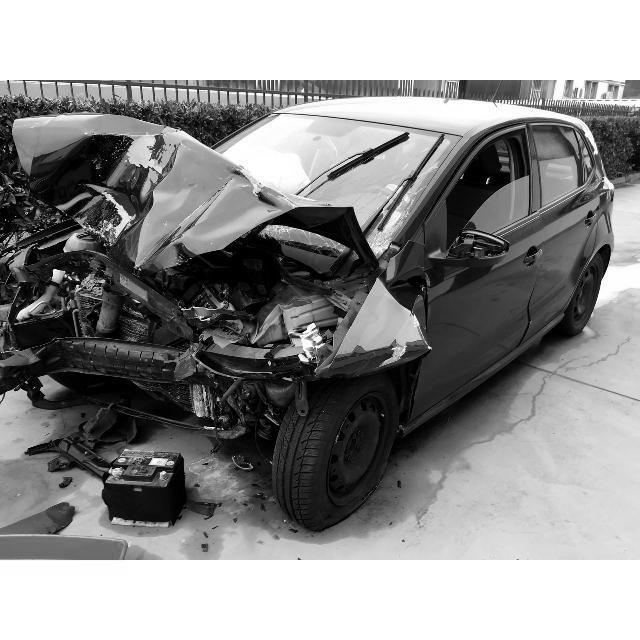Front-windscreen-damage: (337, 147, 452, 249)
bonnet-dent: (46, 116, 318, 263)
fender-dent: (306, 293, 422, 394)
